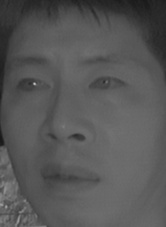eye: (13, 74, 52, 97), (88, 73, 128, 95)
mouth: (34, 159, 102, 199)
